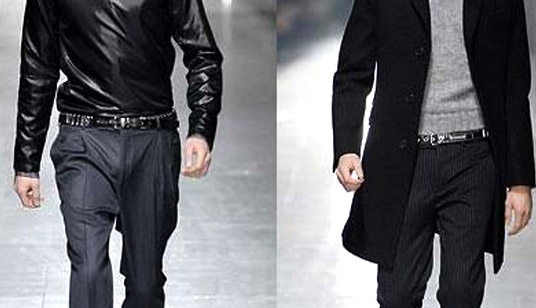F_belt: (49, 103, 182, 134), (406, 127, 501, 150)
F_dress pants: (59, 116, 184, 308)
